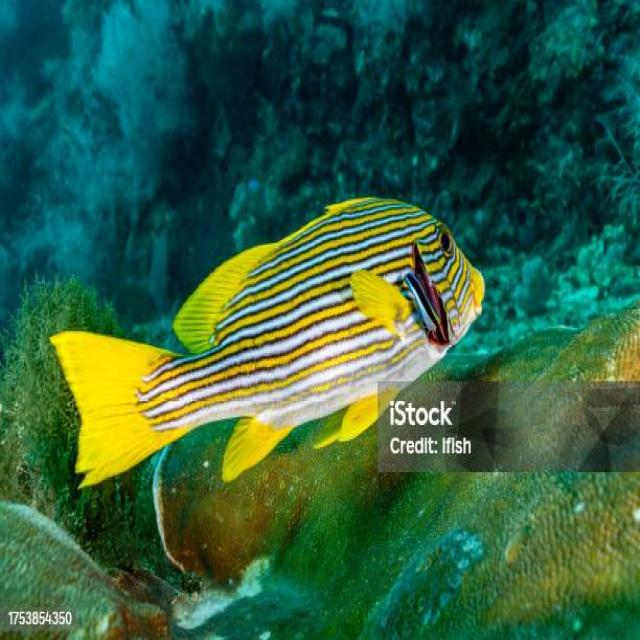RibbonedSweetlips: (48, 193, 486, 491)
